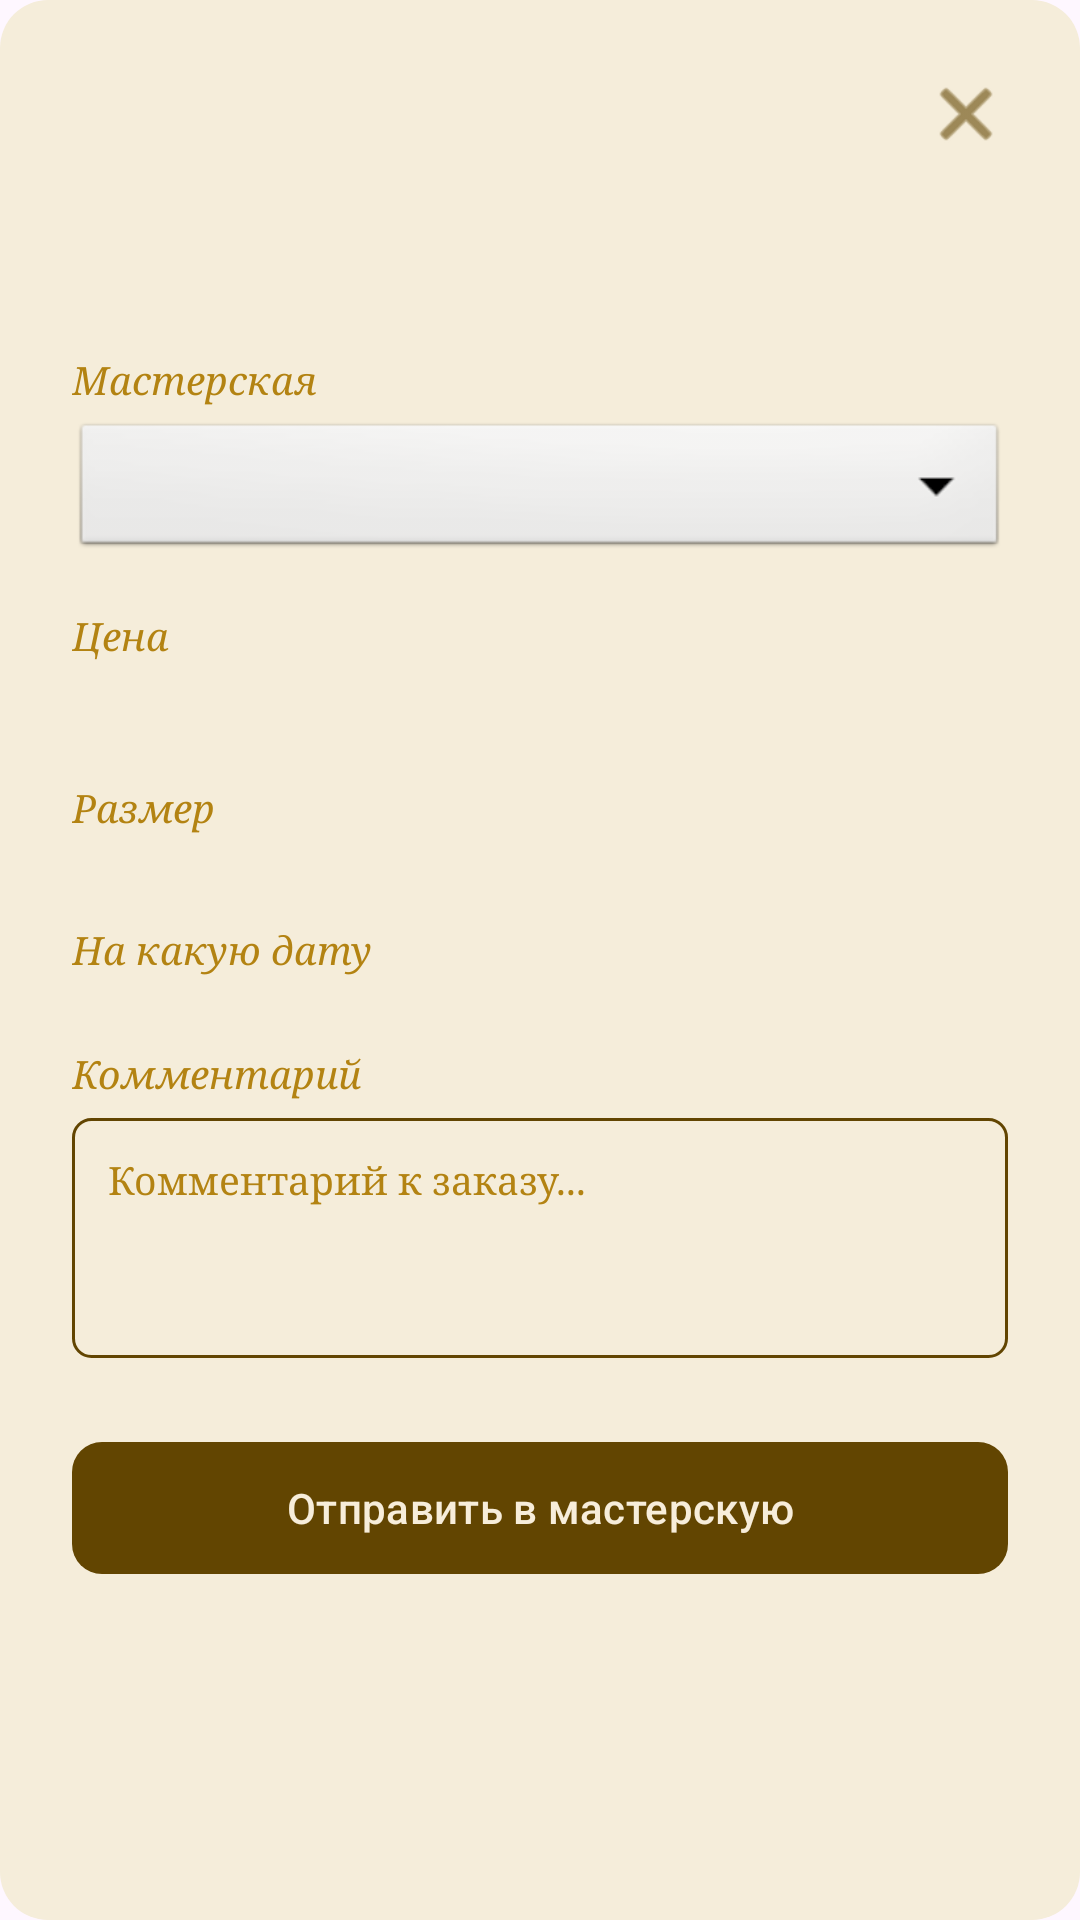

Icons on this 1080 x 1920 Android screen, each with the point to tap as (x,y):
Закрыть: (966,114)
